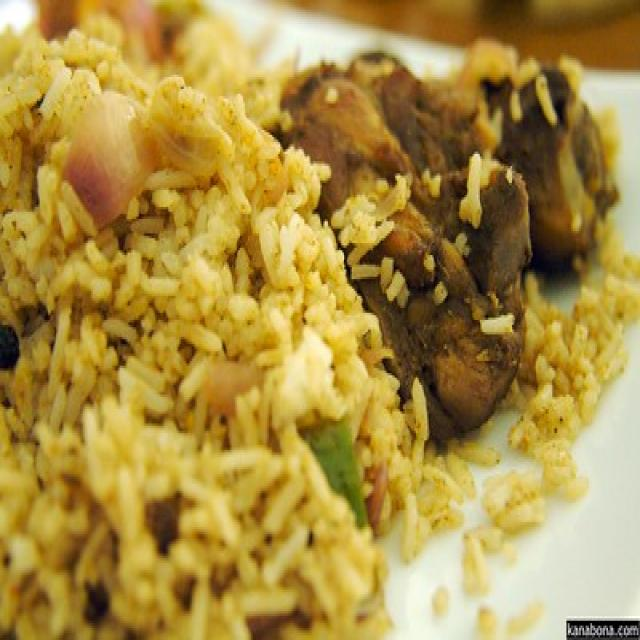Biryani: (0, 17, 600, 640)
